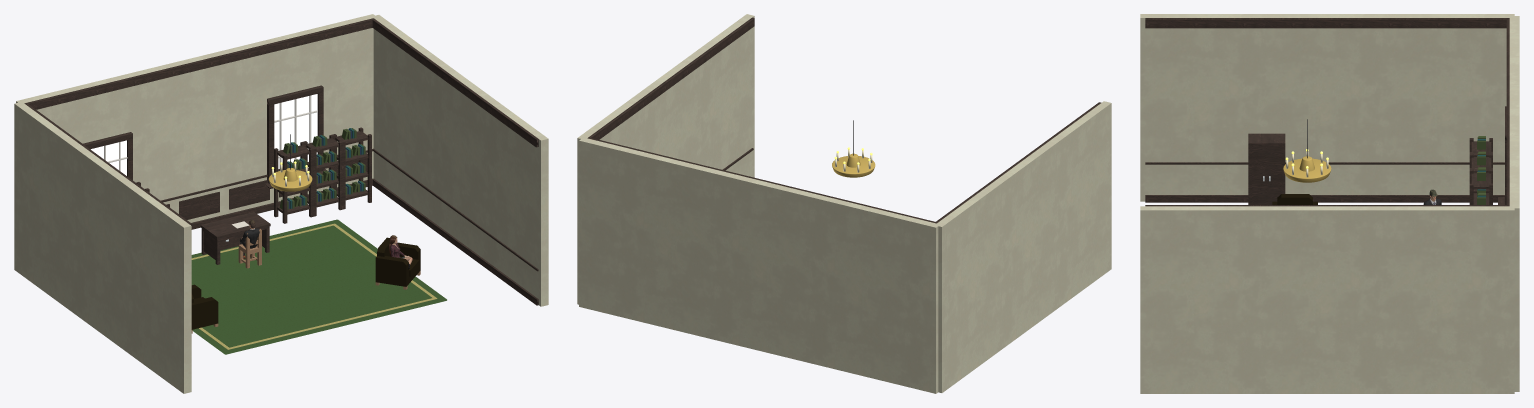
File: belvedere.glb
3 renders of one model, left to right at view 1: azimuth 30°, elevation 25°; view 2: azimuth 150°, elevation 25°; view 3: azimuth 270°, elevation 25°, orthographic. The views are drawn at different scales.
Visible parts, largest first — view 1: wall_left, wall_back, wall_right, box.036, box.006, box.034, pane.001, box.008, desk(Clone).001, loungeChair(Clone).002, box.002, bookcaseOpen(Clone).004 (+13 smaller); view 2: wall_back, wall_left, wall_right, box.008, box.006, cyl.001, box.007; view 3: wall_right, wall_left, box.007, wall_back, box.001, bookcaseClosedDoors(Clone).001, doorRight.001, doorLeft.001, box.004, cyl.001, box.006, box.008 (+2 smaller).
Part boxes in pixels (left/top/right/bottom): wall_left: left=14, top=102, right=191, bottom=393; wall_back: left=16, top=14, right=376, bottom=222; wall_right: left=373, top=15, right=548, bottom=306; box.036: left=191, top=225, right=431, bottom=347; box.006: left=25, top=18, right=372, bottom=109; box.034: left=191, top=219, right=446, bottom=354; pane.001: left=274, top=94, right=317, bottom=168; box.008: left=372, top=18, right=538, bottom=147; desk(Clone).001: left=200, top=212, right=270, bottom=264; loungeChair(Clone).002: left=375, top=237, right=420, bottom=289; box.002: left=373, top=178, right=538, bottom=305; bookcaseOpen(Clone).004: left=274, top=142, right=313, bottom=223; wall_back: left=579, top=137, right=939, bottom=393; wall_left: left=936, top=101, right=1111, bottom=392; wall_right: left=577, top=14, right=754, bottom=304; box.008: left=587, top=17, right=754, bottom=139; box.006: left=588, top=138, right=936, bottom=223; cyl.001: left=832, top=156, right=875, bottom=177; box.007: left=935, top=102, right=1101, bottom=223; wall_right: left=1140, top=206, right=1514, bottom=393; wall_left: left=1140, top=14, right=1514, bottom=201; box.007: left=1145, top=18, right=1509, bottom=28; wall_back: left=1509, top=16, right=1519, bottom=391; box.001: left=1145, top=195, right=1504, bottom=202; bookcaseClosedDoors(Clone).001: left=1248, top=133, right=1285, bottom=204; doorRight.001: left=1266, top=146, right=1281, bottom=204; doorLeft.001: left=1252, top=146, right=1266, bottom=204; box.004: left=1145, top=162, right=1504, bottom=164; cyl.001: left=1283, top=158, right=1331, bottom=182; box.006: left=1506, top=18, right=1509, bottom=205; box.008: left=1145, top=205, right=1508, bottom=206.
Size of what is drawn, in the model's own units: 11.48 by 5.02 by 9.36.
Materials: 49 (35 with a texture image).
